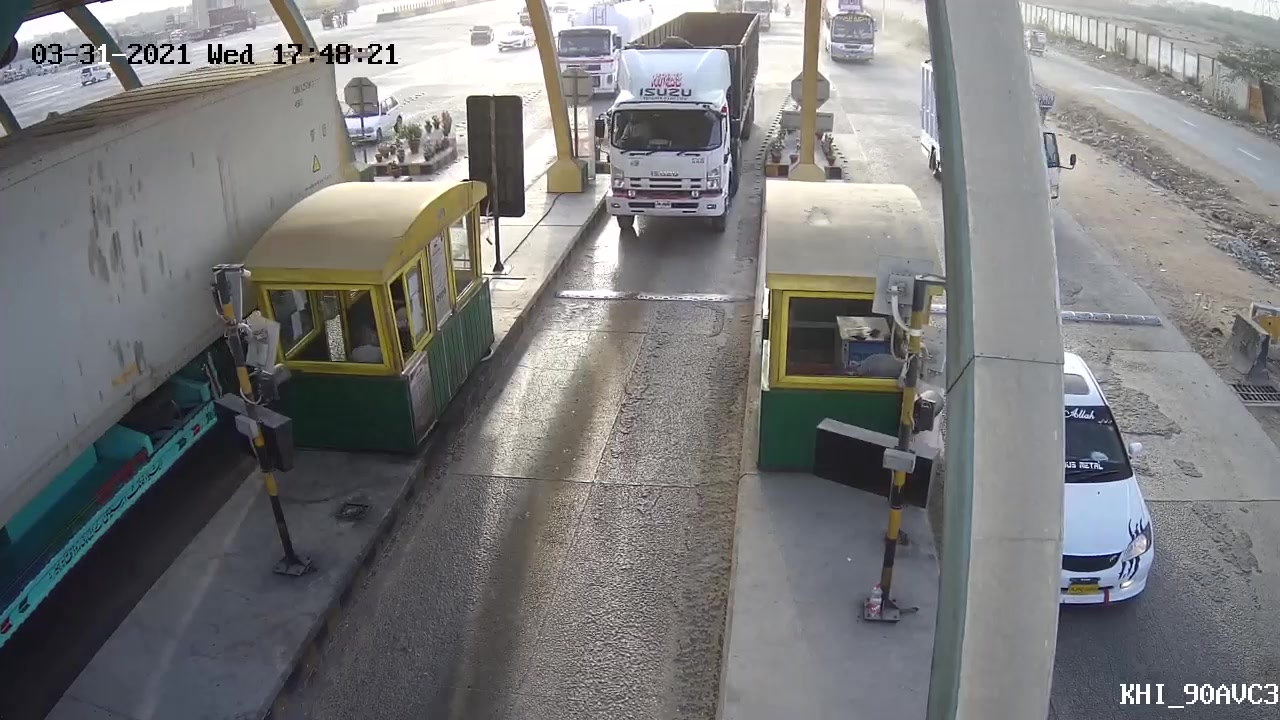F6: (601, 2, 763, 240)
